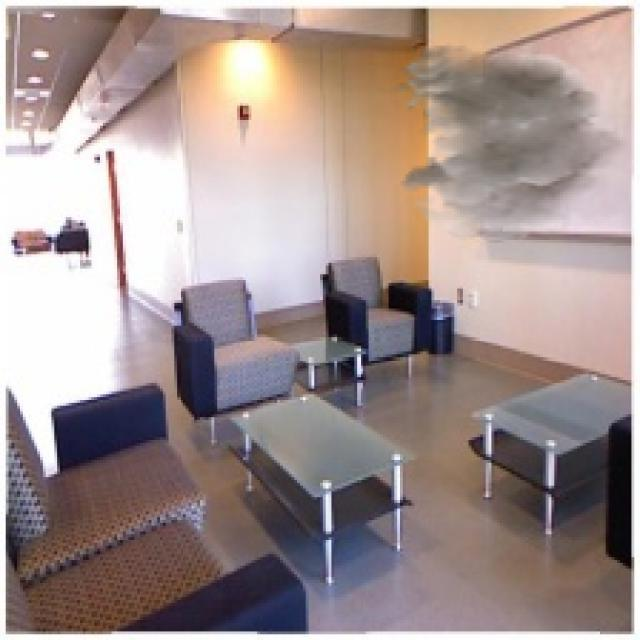Smoke: (394, 43, 632, 243)
